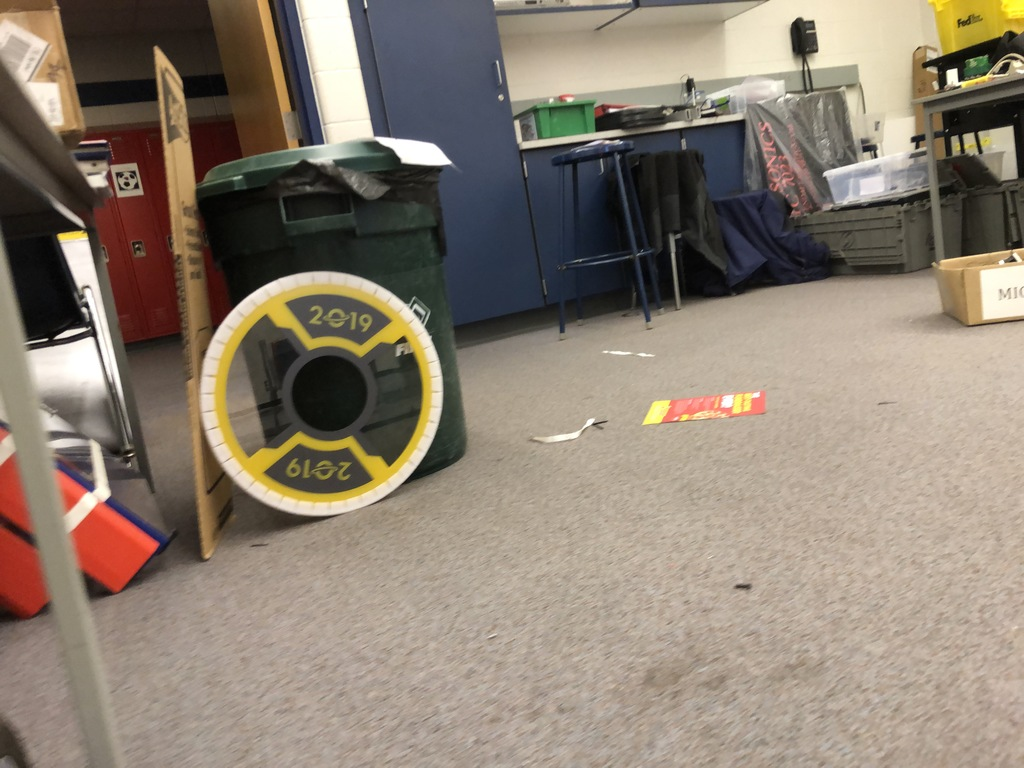hatch_panel: (183, 262, 448, 524)
